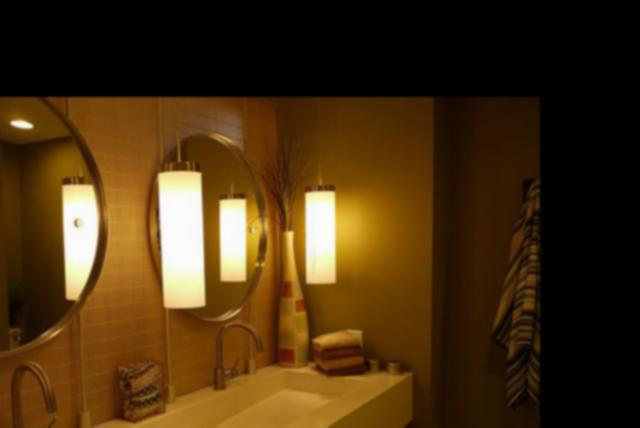Lavamanos: (204, 312, 411, 428), (0, 354, 204, 428)
